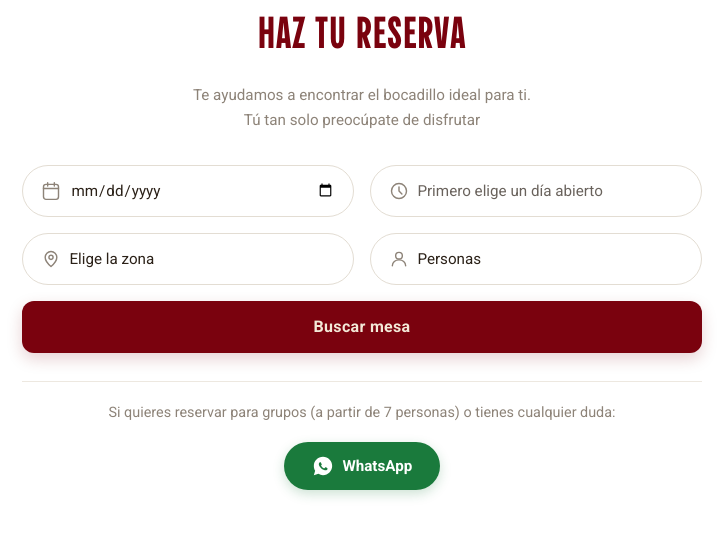
Scenario: Reservas page › selecting a closed day shows a closed message
The width and height of the screenshot is (725, 544).
Type "2030-06-03" into the date field with id "res-date" at (202, 191), box [69,181,335,201]
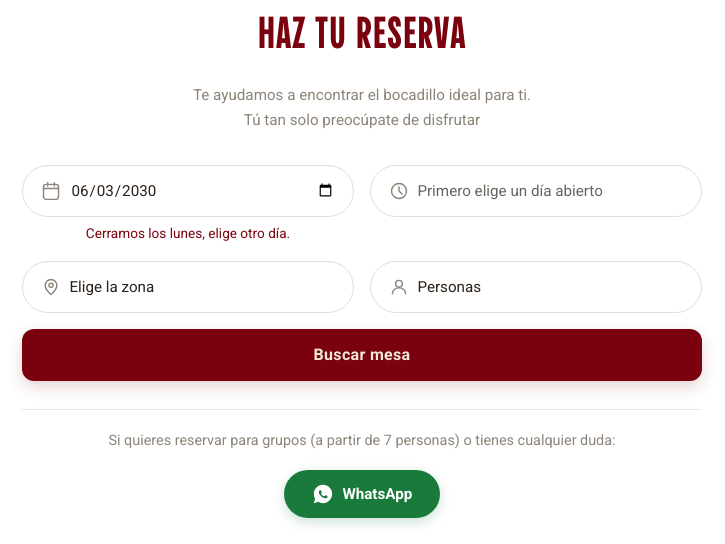
Expected: the text "Cerramos los lunes, elige otro día." is shown, [86,225,290,241]
